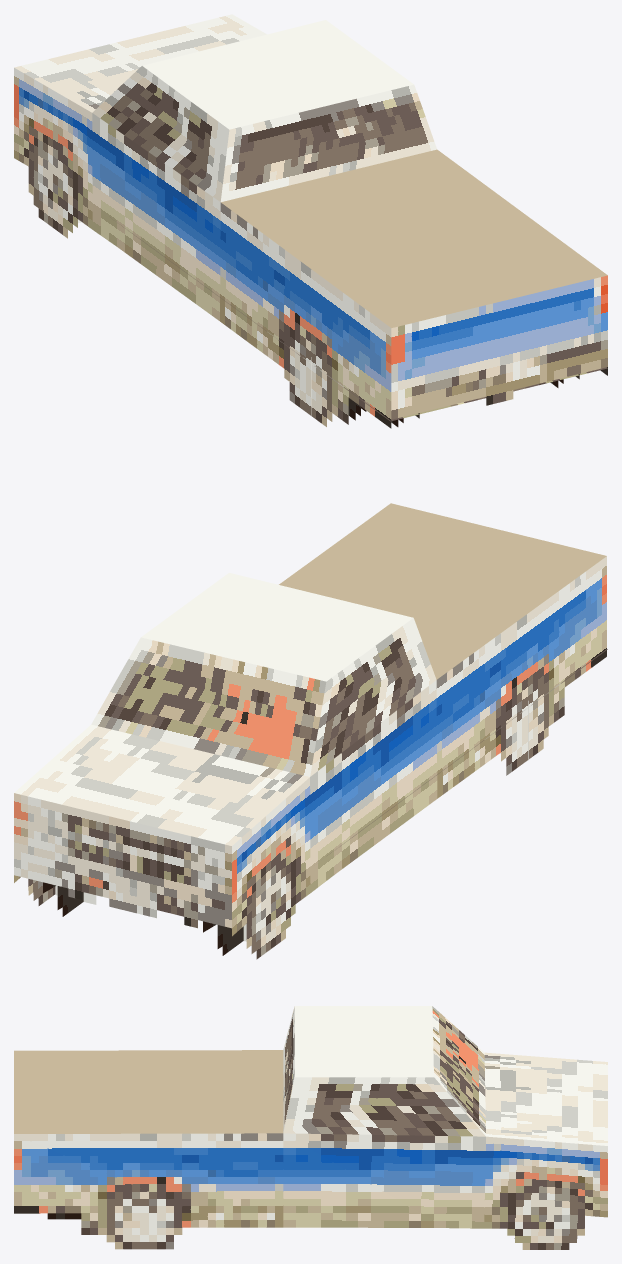
Rendered from car-pickup.glb.
3 views of the same model, one above another, from view 1: azimuth 30°, elevation 25°; view 2: azimuth 150°, elevation 25°; view 3: azimuth 270°, elevation 25° (orthographic). The views are drawn at different scales.
Parts seen in each view (by area): view 1: car-pickup; view 2: car-pickup; view 3: car-pickup.
Boxes of the visible parts, x1=… form: car-pickup: x1=14, y1=14, x2=607, y2=428; car-pickup: x1=14, y1=503, x2=607, y2=959; car-pickup: x1=14, y1=1006, x2=607, y2=1249.
Size of the model in its own units: 1.94 by 1.79 by 5.79.
15 materials, 15 textured.
